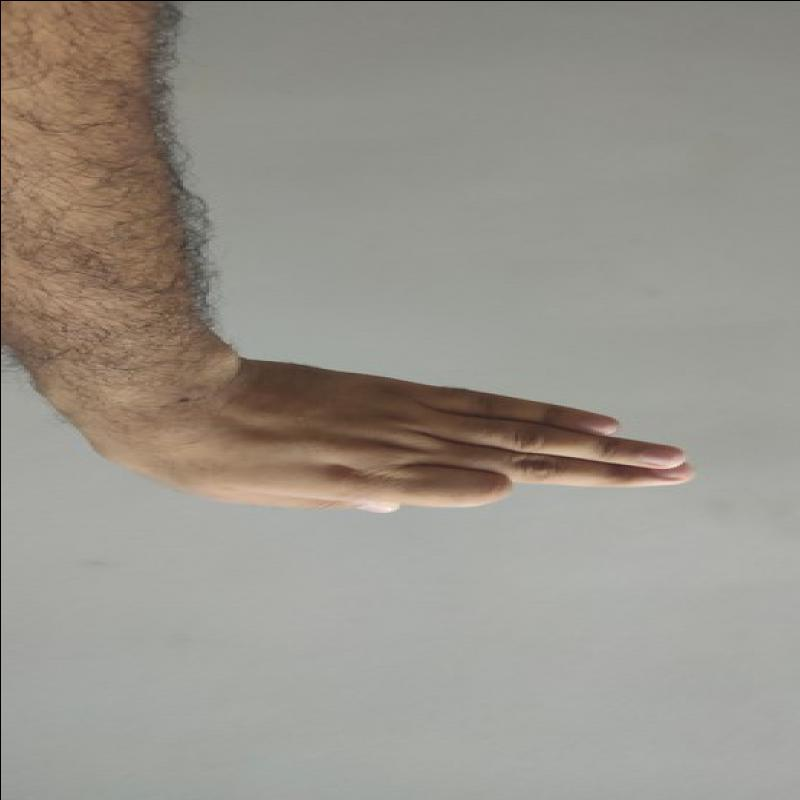Mudraakhyam: (200, 333, 712, 536)
